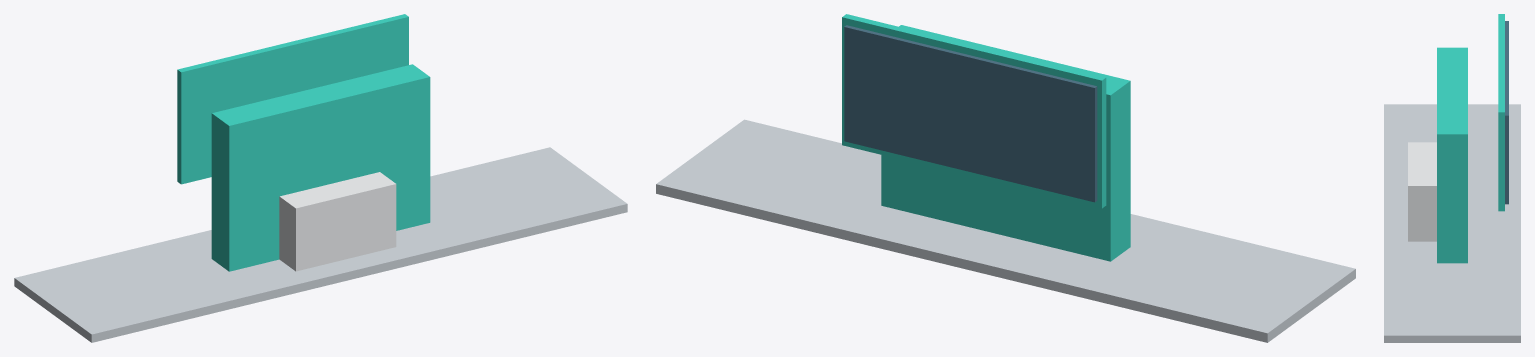
The picture shows the model from 3 angles, left to right: view 1: azimuth 30°, elevation 25°; view 2: azimuth 150°, elevation 25°; view 3: azimuth 270°, elevation 25°; orthographic projection. The views are drawn at different scales.
Parts seen in each view (by area): view 1: Exhibition Booth Concept; view 2: Exhibition Booth Concept; view 3: Exhibition Booth Concept.
Boxes of the visible parts, box(x1,y1,x2,y2) form: Exhibition Booth Concept: box(14, 14, 627, 342); Exhibition Booth Concept: box(656, 14, 1355, 342); Exhibition Booth Concept: box(1384, 14, 1520, 342).
Bounding box in the file's own units: 8 × 2.65 × 2.
